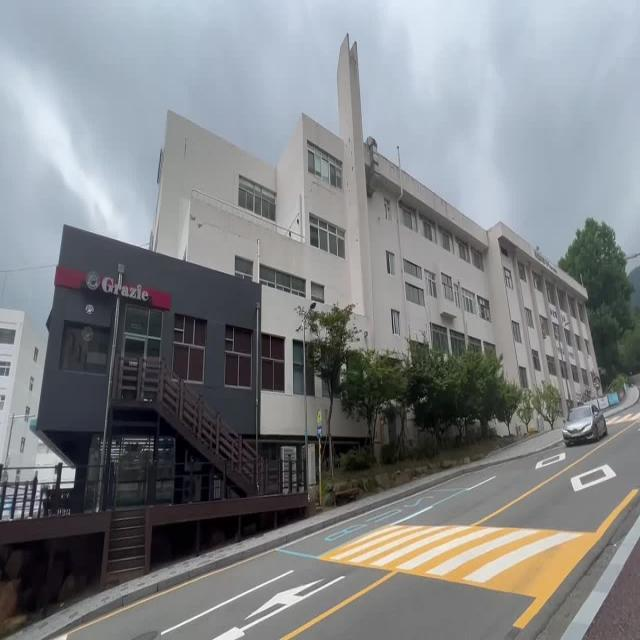building: (43, 91, 540, 447)
